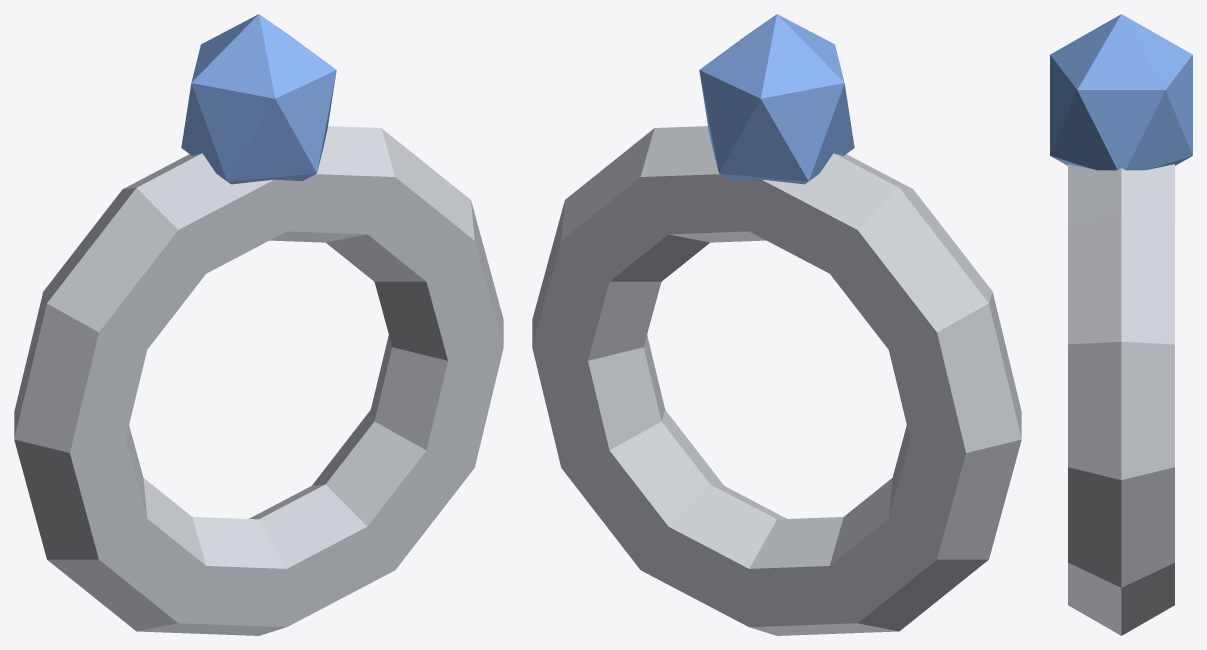
Rendered from RingFocus.fbx.
The picture shows the model from 3 angles, left to right: view 1: azimuth 30°, elevation 25°; view 2: azimuth 150°, elevation 25°; view 3: azimuth 270°, elevation 25°; orthographic projection. The views are drawn at different scales.
Parts seen in each view (by area): view 1: fam_steel, fam_sapphire_emit; view 2: fam_steel, fam_sapphire_emit; view 3: fam_steel, fam_sapphire_emit.
Boxes of the visible parts, left/top/right/bottom form: fam_steel: left=14, top=126, right=503, bottom=635; fam_sapphire_emit: left=181, top=14, right=336, bottom=184; fam_steel: left=532, top=126, right=1021, bottom=635; fam_sapphire_emit: left=699, top=14, right=854, bottom=184; fam_steel: left=1068, top=164, right=1174, bottom=635; fam_sapphire_emit: left=1050, top=14, right=1192, bottom=170.
Size of the model in its own units: 0.861 by 1.05 by 0.2263.
